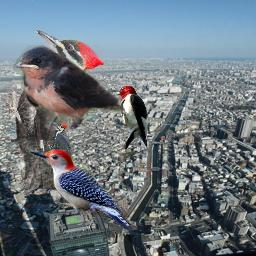Swallow: (13, 45, 125, 131)
Woodpecker: (6, 27, 104, 189), (29, 149, 134, 231), (110, 85, 148, 149), (44, 121, 74, 176)
